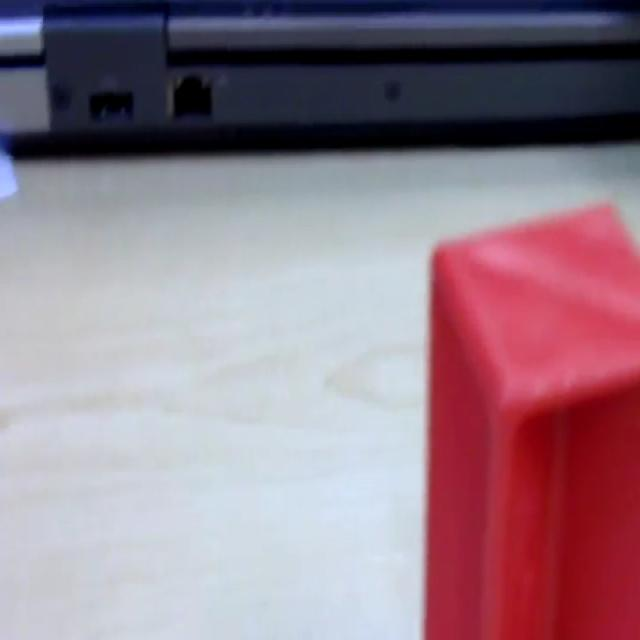red_block: (422, 196, 638, 636)
